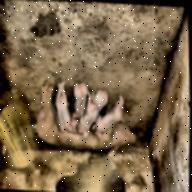boar: (30, 80, 138, 159)
